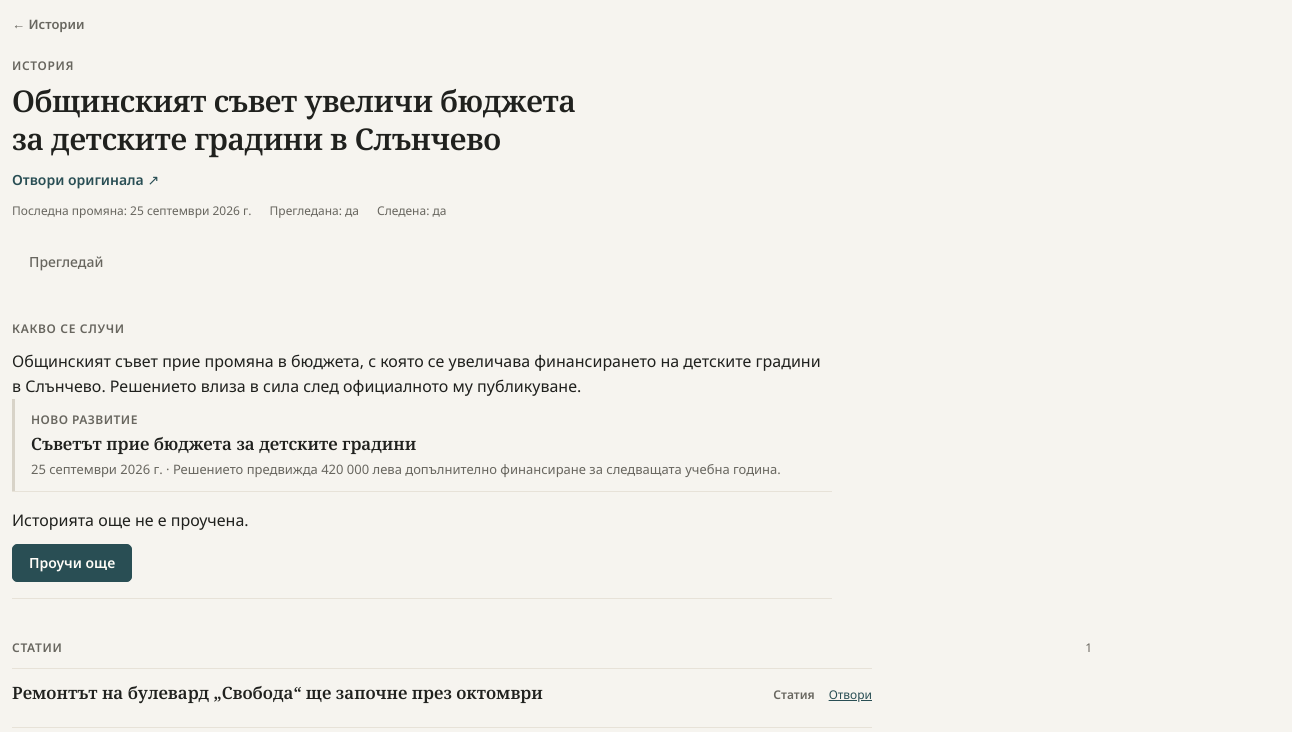
V1.2-G2.2 — the research operation is followed, not timed out › never leaves a reattach failure silent
Expected: the heading "Общинският съвет увеличи бюджета за детските градини в Слънчево" is shown, [12,80,576,159]
Click the button "Проучи още": x=72, y=563 [12,544,132,582]
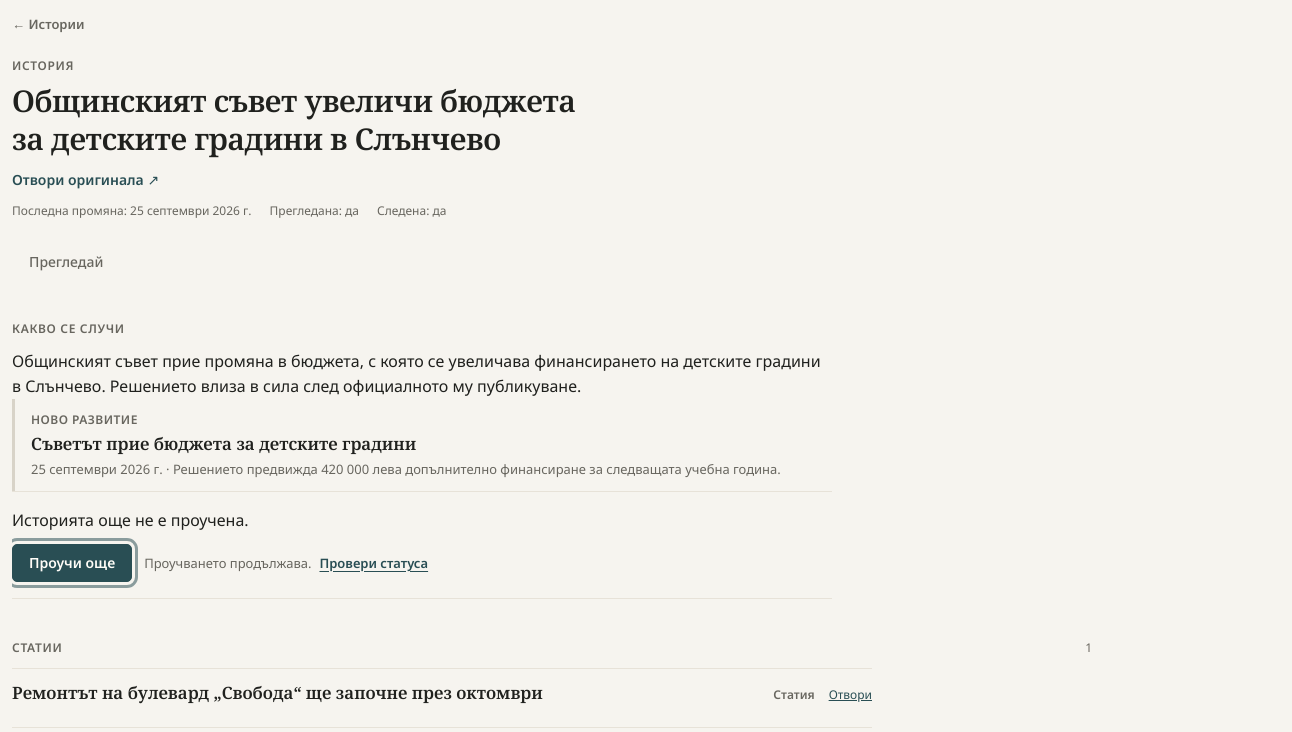
Now the text "Проучването продължава. Провери статуса" is shown, box [144,554,428,572]
Click the button "Провери статуса": x=374, y=563 [320,554,428,572]
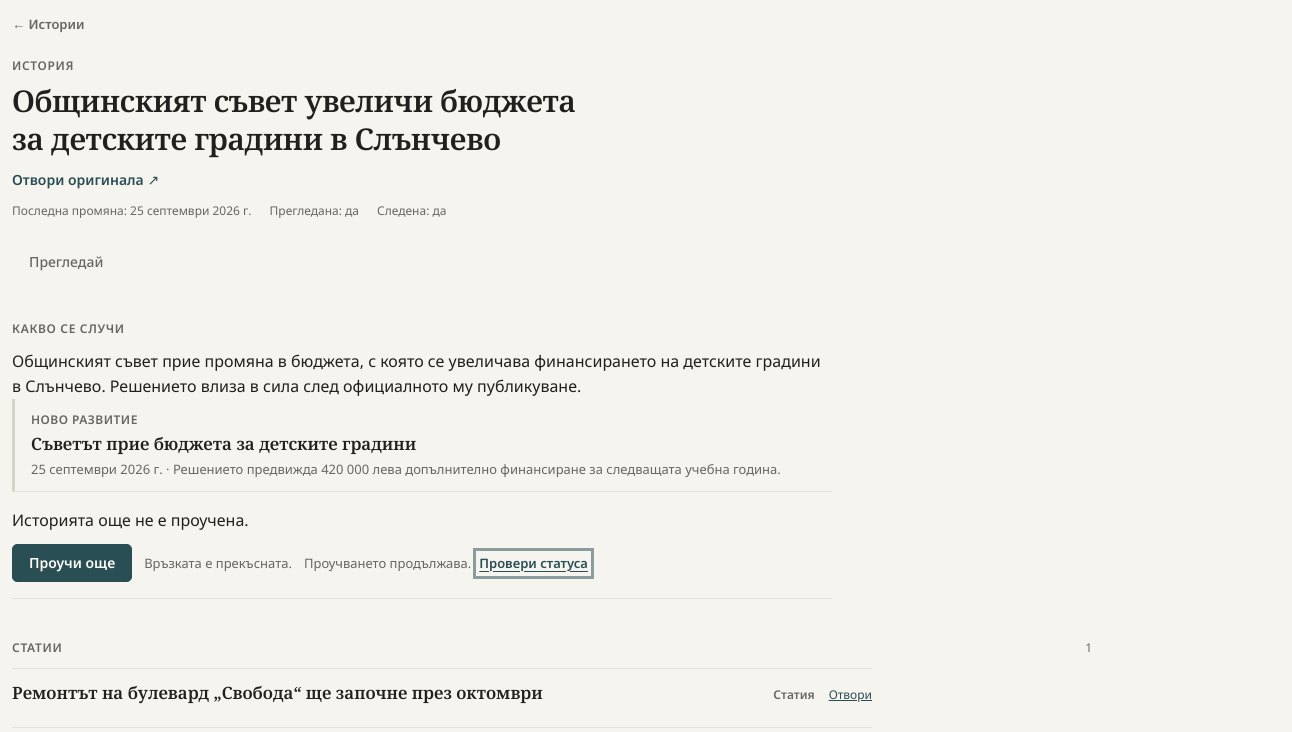
Now the text "Връзката е прекъсната." is shown, box [144,554,292,572]
